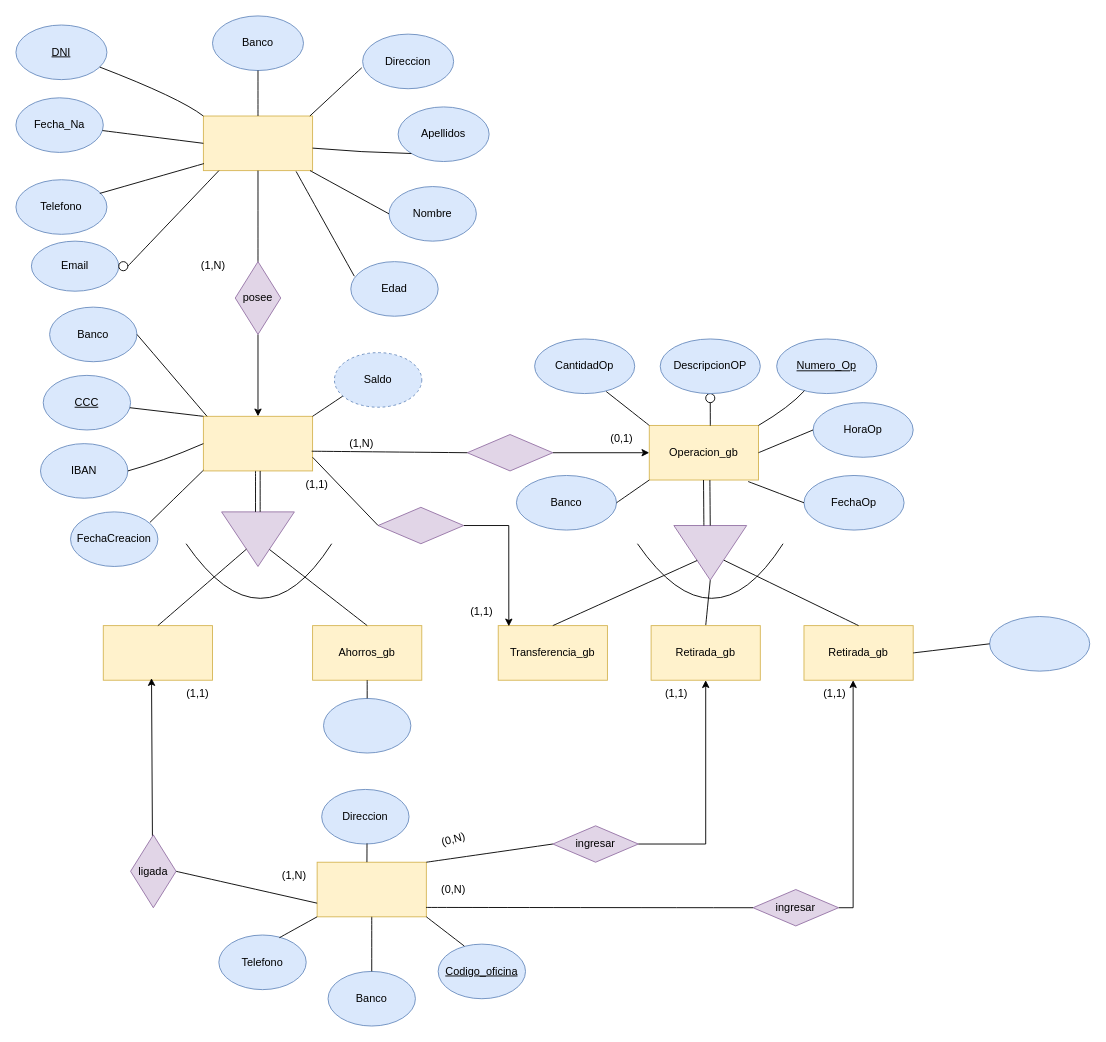
Some shapes in this 1106 by 1042 pixel diagram are drawn without their labels. The shapes that lost their labels are listed below. From the top down, each one's centre as x and y in pixels, then its label:
At pixel 257 143: "Titular_gb".
At pixel 257 443: "Cuenta_gb".
At pixel 509 452: "realizar".
At pixel 420 525: "transferir".
At pixel 157 652: "Corriente_gb".
At pixel 1039 643: "TipoOpEfectivo".
At pixel 367 725: "Interés".
At pixel 371 889: "Oficina_gb".
